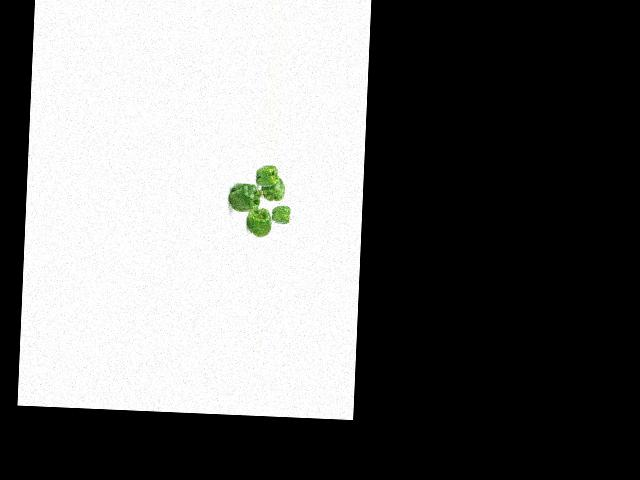bell_pepper: (253, 164, 278, 189)
